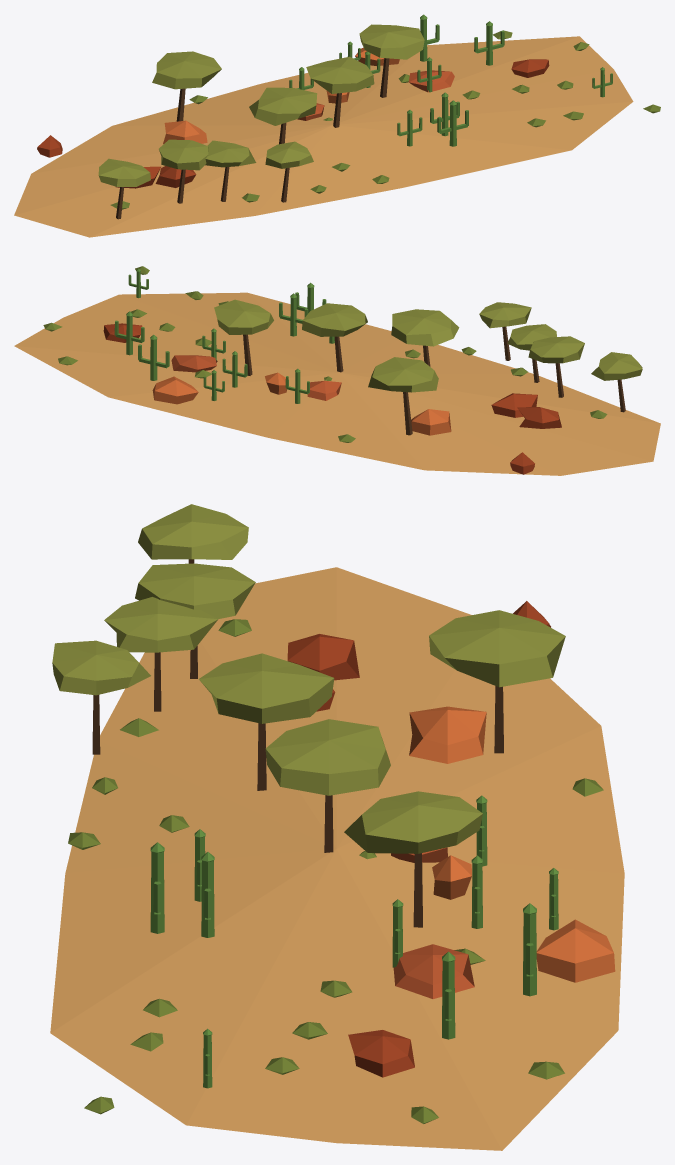
File: W5_Mid_Flora.fbx
3 views of the same model, one above another, from view 1: azimuth 30°, elevation 25°; view 2: azimuth 150°, elevation 25°; view 3: azimuth 270°, elevation 25° (orthographic). The views are drawn at different scales.
Visible parts, largest first — view 1: W5_Mid_Flora; view 2: W5_Mid_Flora; view 3: W5_Mid_Flora.
Part boxes in pixels (bbox=[...]): W5_Mid_Flora: bbox=[14, 14, 660, 237]; W5_Mid_Flora: bbox=[14, 266, 660, 475]; W5_Mid_Flora: bbox=[50, 504, 624, 1150].
Bounding box in the file's own units: 126 × 14.39 × 52.56.
